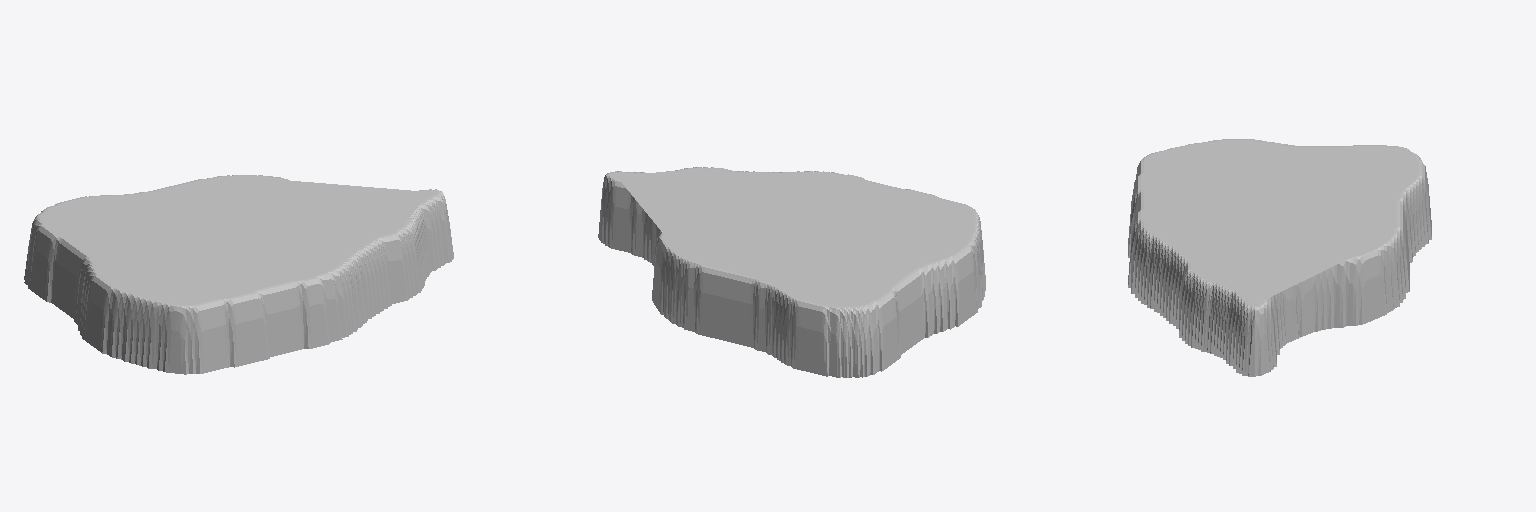
File: newMountain.obj
The picture shows the model from 3 angles: view 1: azimuth 30°, elevation 25°; view 2: azimuth 150°, elevation 25°; view 3: azimuth 270°, elevation 25°; orthographic projection.
Parts seen in each view (by area): view 1: Plane.001_Plane.007; view 2: Plane.001_Plane.007; view 3: Plane.001_Plane.007.
Part boxes in pixels (x1,y1,x2,y2): Plane.001_Plane.007: (24, 175, 453, 374); Plane.001_Plane.007: (598, 167, 985, 377); Plane.001_Plane.007: (1128, 139, 1431, 376).
Size of the model in its own units: 177 by 29.93 by 127.